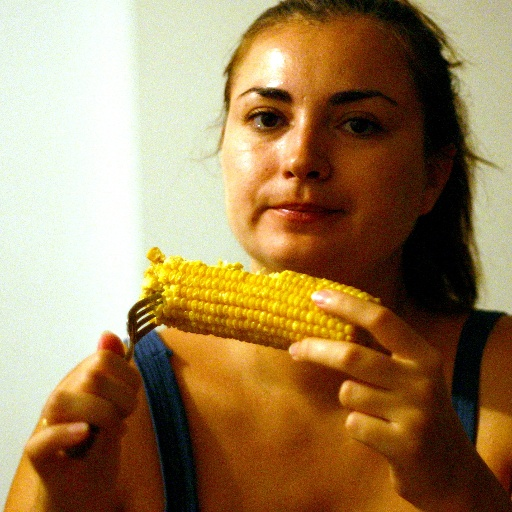hand: (286, 284, 482, 511), (0, 339, 144, 488)
